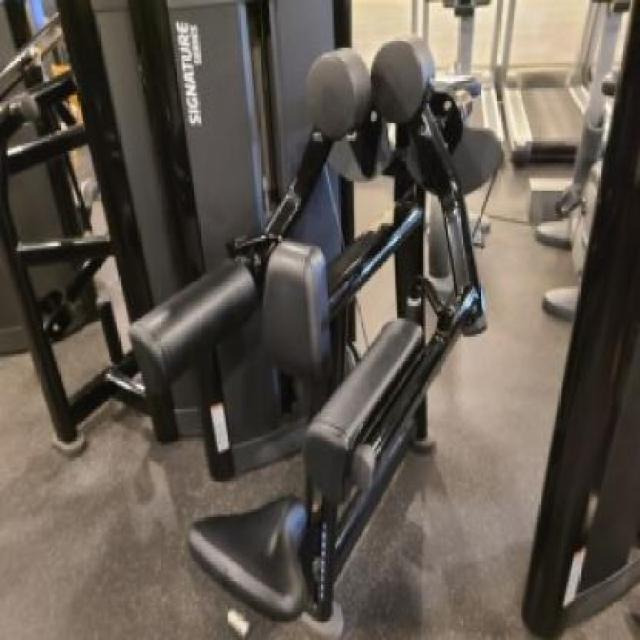lateral raises machine: (126, 35, 486, 640)
